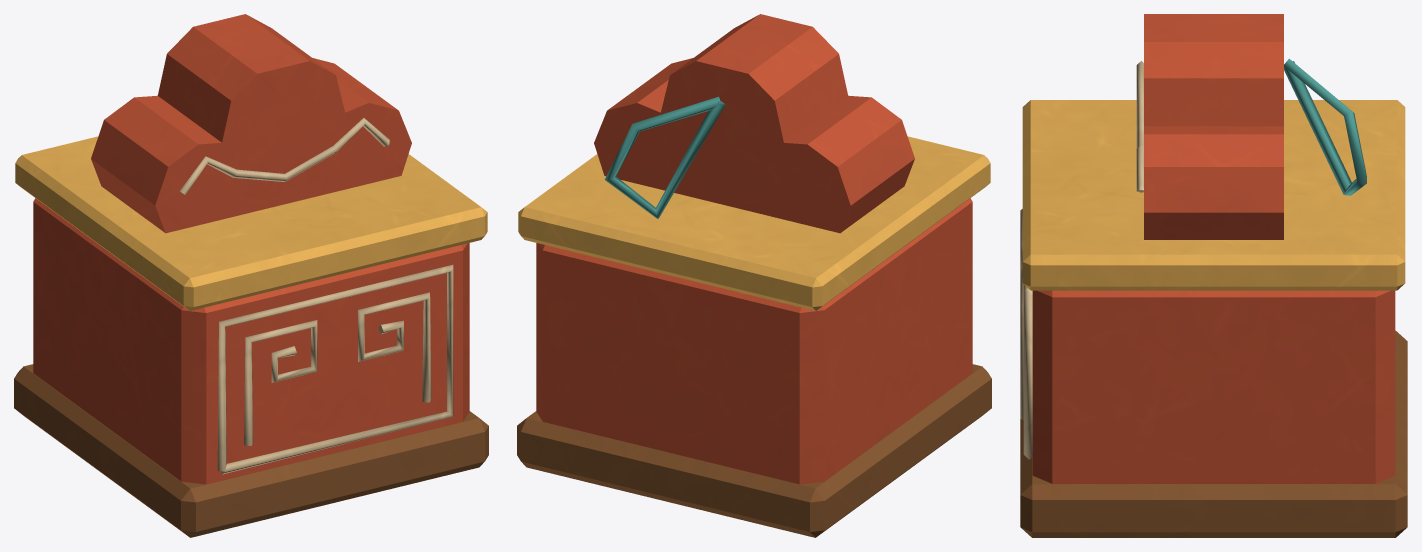
File: tool_stamp.glb
3 views of the same model, side by side, from view 1: azimuth 30°, elevation 25°; view 2: azimuth 150°, elevation 25°; view 3: azimuth 270°, elevation 25° (orthographic). The views are drawn at different scales.
Parts seen in each view (by area): view 1: tool_stamp__seal_body, tool_stamp__cloud_button, tool_stamp__carved_shoulder, tool_stamp__seal_sole, tool_stamp__front_frame, tool_stamp__square_scroll.001, tool_stamp__square_scroll, tool_stamp__cloud_carving; view 2: tool_stamp__seal_body, tool_stamp__cloud_button, tool_stamp__carved_shoulder, tool_stamp__seal_sole, tool_stamp__silk_loop; view 3: tool_stamp__seal_body, tool_stamp__carved_shoulder, tool_stamp__cloud_button, tool_stamp__seal_sole, tool_stamp__silk_loop, tool_stamp__front_frame, tool_stamp__cloud_carving, tool_stamp__square_scroll.001.
Part boxes in pixels (<box>): tool_stamp__seal_body: <box>33,198,469,484</box>; tool_stamp__cloud_button: <box>91,14,411,233</box>; tool_stamp__carved_shoulder: <box>15,136,487,310</box>; tool_stamp__seal_sole: <box>14,364,488,537</box>; tool_stamp__front_frame: <box>217,264,453,474</box>; tool_stamp__square_scroll.001: <box>358,292,431,402</box>; tool_stamp__square_scroll: <box>244,320,317,445</box>; tool_stamp__cloud_carving: <box>180,118,389,195</box>; tool_stamp__seal_body: <box>536,198,972,484</box>; tool_stamp__cloud_button: <box>594,14,914,233</box>; tool_stamp__carved_shoulder: <box>518,136,990,310</box>; tool_stamp__seal_sole: <box>517,364,991,537</box>; tool_stamp__silk_loop: <box>605,96,725,218</box>; tool_stamp__seal_body: <box>1032,290,1395,483</box>; tool_stamp__carved_shoulder: <box>1022,100,1405,290</box>; tool_stamp__cloud_button: <box>1144,14,1283,239</box>; tool_stamp__seal_sole: <box>1020,330,1407,537</box>; tool_stamp__silk_loop: <box>1284,58,1366,195</box>; tool_stamp__front_frame: <box>1023,284,1032,459</box>; tool_stamp__cloud_carving: <box>1136,61,1143,192</box>; tool_stamp__square_scroll.001: <box>1020,268,1023,419</box>.
Size of the model in its own units: 0.235 by 0.29 by 0.235.
5 materials, 5 textured.
